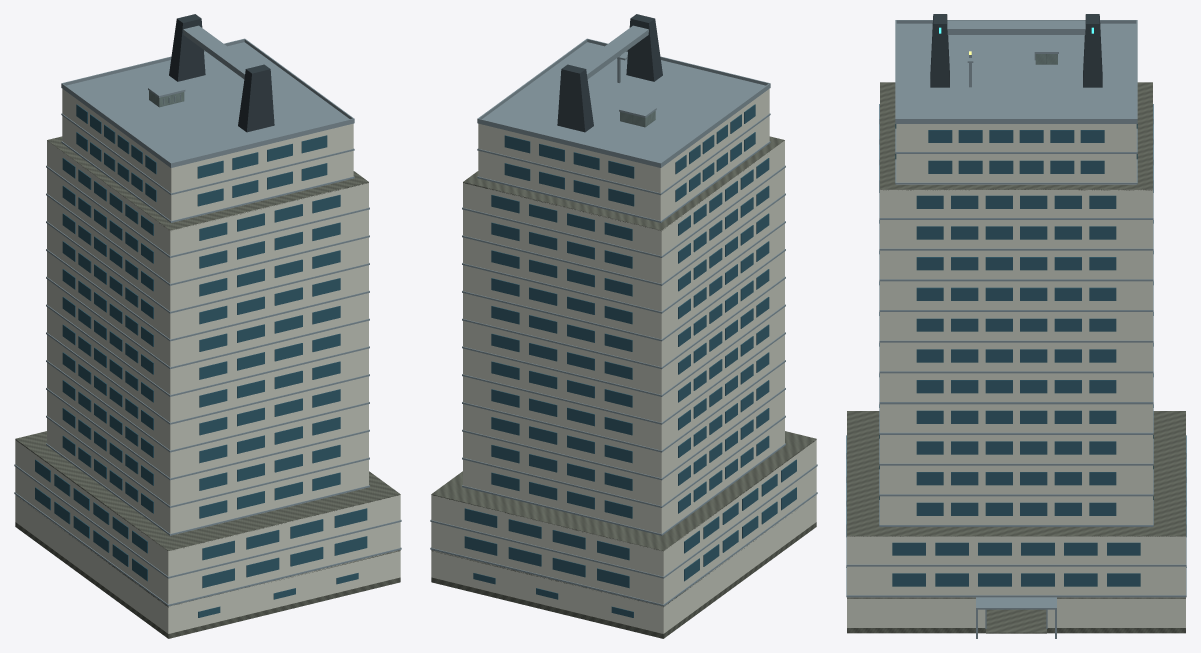
File: Capital_GateAdministration.glb
3 views of the same model, side by side, from view 1: azimuth 30°, elevation 25°; view 2: azimuth 150°, elevation 25°; view 3: azimuth 270°, elevation 25° (orthographic). The views are drawn at different scales.
Parts seen in each view (by area): view 1: Capital_GateAdministration_Roof, Capital_GateAdministration_GroundShell, Capital_GateAdministration_Upper1_Shell_F2, Capital_GateAdministration_Upper1_Shell_F1, Capital_GateAdministration_Upper2_Shell_F6, Capital_GateAdministration_Upper2_Shell_F7, Capital_GateAdministration_Upper2_Shell_F5, Capital_GateAdministration_Upper2_Shell_F8, Capital_GateAdministration_Upper2_Shell_F4, Capital_GateAdministration_Upper2_Shell_F3, Capital_GateAdministration_Upper2_Shell_F2, Capital_GateAdministration_Upper2_Shell_F9 (+55 smaller); view 2: Capital_GateAdministration_Roof, Capital_GateAdministration_GroundShell, Capital_GateAdministration_Upper1_Shell_F2, Capital_GateAdministration_Upper1_Shell_F1, Capital_GateAdministration_Upper2_Shell_F6, Capital_GateAdministration_Upper2_Shell_F7, Capital_GateAdministration_Upper2_Shell_F4, Capital_GateAdministration_Upper2_Shell_F5, Capital_GateAdministration_Upper2_Shell_F8, Capital_GateAdministration_Upper2_Shell_F3, Capital_GateAdministration_Upper2_Shell_F2, Capital_GateAdministration_Upper2_Shell_F9 (+55 smaller); view 3: Capital_GateAdministration_Roof, Capital_GateAdministration_TerraceDeck_3, Capital_GateAdministration_GroundShell, Capital_GateAdministration_Upper1_Shell_F2, Capital_GateAdministration_Upper1_Shell_F1, Capital_GateAdministration_Upper2_Shell_F3, Capital_GateAdministration_Upper2_Shell_F6, Capital_GateAdministration_Upper2_Shell_F7, Capital_GateAdministration_Upper2_Shell_F10, Capital_GateAdministration_Upper2_Shell_F2, Capital_GateAdministration_Upper2_Shell_F4, Capital_GateAdministration_Upper2_Shell_F5 (+42 smaller).
Part boxes in pixels (left/top/right/bottom): Capital_GateAdministration_Roof: left=61, top=38, right=354, bottom=167; Capital_GateAdministration_GroundShell: left=15, top=495, right=400, bottom=633; Capital_GateAdministration_Upper1_Shell_F2: left=15, top=440, right=400, bottom=578; Capital_GateAdministration_Upper1_Shell_F1: left=15, top=467, right=400, bottom=604; Capital_GateAdministration_Upper2_Shell_F6: left=47, top=279, right=368, bottom=396; Capital_GateAdministration_Upper2_Shell_F7: left=47, top=251, right=368, bottom=369; Capital_GateAdministration_Upper2_Shell_F5: left=47, top=307, right=368, bottom=424; Capital_GateAdministration_Upper2_Shell_F8: left=47, top=224, right=368, bottom=341; Capital_GateAdministration_Upper2_Shell_F4: left=47, top=335, right=368, bottom=452; Capital_GateAdministration_Upper2_Shell_F3: left=47, top=363, right=368, bottom=480; Capital_GateAdministration_Upper2_Shell_F2: left=47, top=390, right=368, bottom=508; Capital_GateAdministration_Upper2_Shell_F9: left=47, top=196, right=368, bottom=313; Capital_GateAdministration_Roof: left=477, top=38, right=770, bottom=167; Capital_GateAdministration_GroundShell: left=431, top=495, right=816, bottom=633; Capital_GateAdministration_Upper1_Shell_F2: left=431, top=440, right=816, bottom=578; Capital_GateAdministration_Upper1_Shell_F1: left=431, top=467, right=816, bottom=604; Capital_GateAdministration_Upper2_Shell_F6: left=463, top=279, right=784, bottom=396; Capital_GateAdministration_Upper2_Shell_F7: left=463, top=251, right=784, bottom=369; Capital_GateAdministration_Upper2_Shell_F4: left=463, top=335, right=784, bottom=452; Capital_GateAdministration_Upper2_Shell_F5: left=463, top=307, right=784, bottom=424; Capital_GateAdministration_Upper2_Shell_F8: left=463, top=224, right=784, bottom=341; Capital_GateAdministration_Upper2_Shell_F3: left=463, top=363, right=784, bottom=480; Capital_GateAdministration_Upper2_Shell_F2: left=463, top=390, right=784, bottom=508; Capital_GateAdministration_Upper2_Shell_F9: left=463, top=196, right=784, bottom=313; Capital_GateAdministration_Roof: left=895, top=20, right=1137, bottom=123; Capital_GateAdministration_TerraceDeck_3: left=847, top=411, right=1185, bottom=536; Capital_GateAdministration_GroundShell: left=847, top=598, right=1185, bottom=627; Capital_GateAdministration_Upper1_Shell_F2: left=847, top=536, right=1185, bottom=566; Capital_GateAdministration_Upper1_Shell_F1: left=847, top=567, right=1185, bottom=597; Capital_GateAdministration_Upper2_Shell_F3: left=880, top=435, right=1152, bottom=465; Capital_GateAdministration_Upper2_Shell_F6: left=880, top=343, right=1152, bottom=373; Capital_GateAdministration_Upper2_Shell_F7: left=880, top=312, right=1152, bottom=342; Capital_GateAdministration_Upper2_Shell_F10: left=880, top=220, right=1152, bottom=250; Capital_GateAdministration_Upper2_Shell_F2: left=880, top=466, right=1152, bottom=496; Capital_GateAdministration_Upper2_Shell_F4: left=880, top=404, right=1152, bottom=435; Capital_GateAdministration_Upper2_Shell_F5: left=880, top=373, right=1152, bottom=404.
Size of the model in its own units: 38.2 by 73 by 40.21.
Materials: 8 (2 with a texture image).
